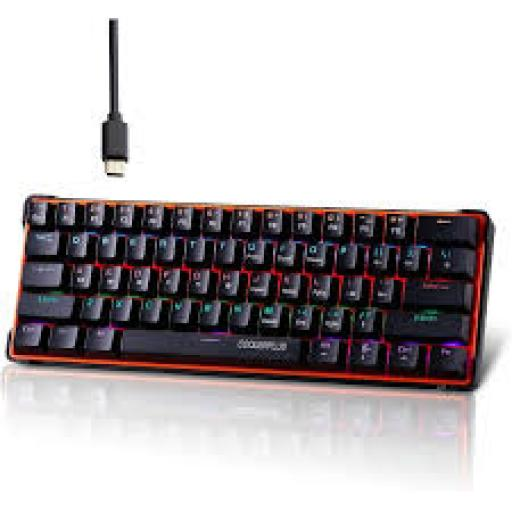keyboard: (7, 196, 492, 387)
